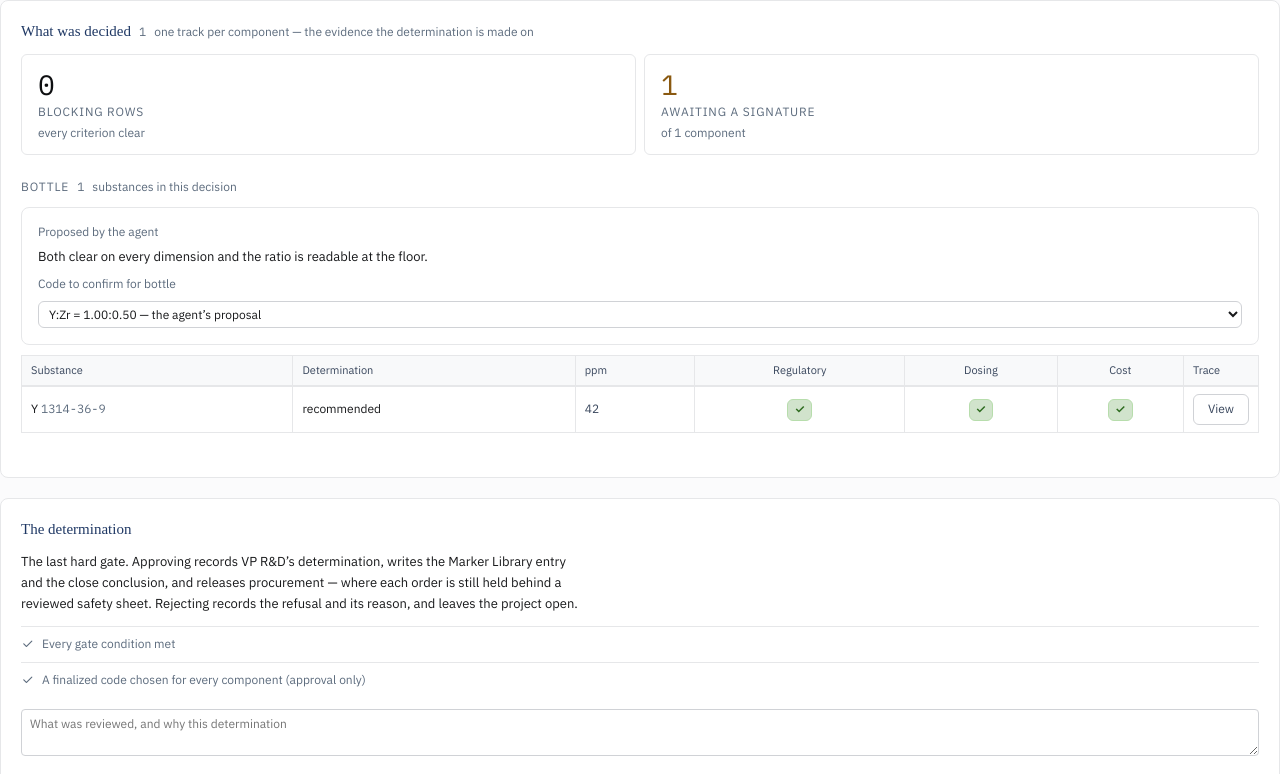
Decision — recording a ruling › does not let a failed post-refusal re-read blank the refusal
Check: the text "Proposed by the agent" is shown, box [38, 224, 159, 241]
In the text box named "determination note": (640, 732) [21, 709, 1259, 756], type "Signing off."
(page scrolled)
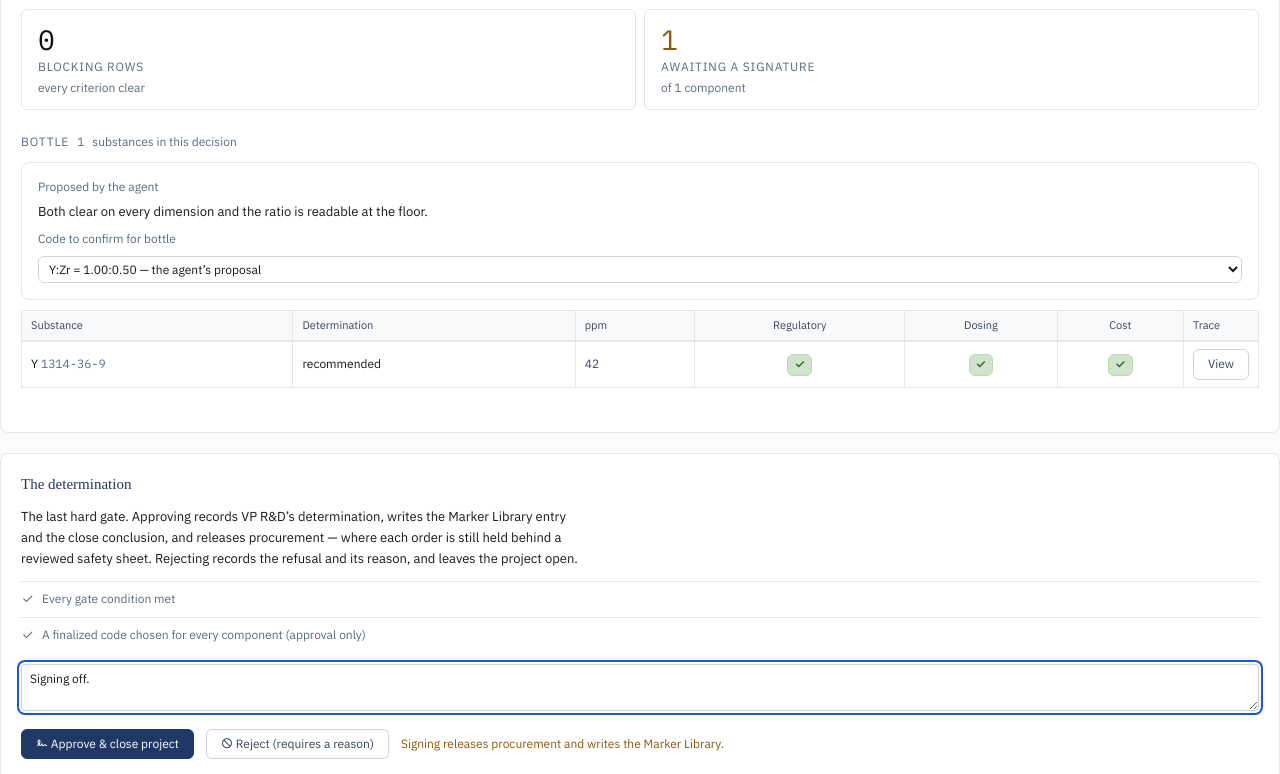
Click the button "Approve & close project": click(108, 744) [21, 728, 194, 759]
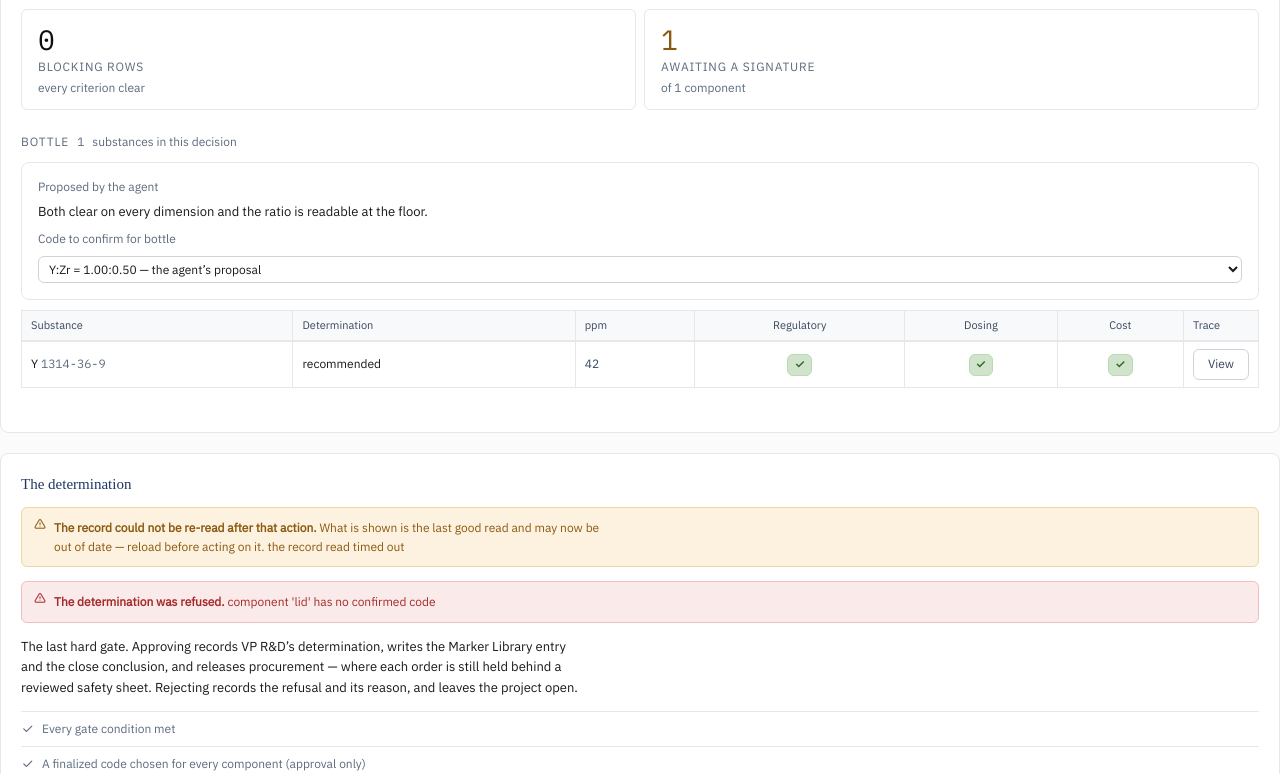
Check: the text "1314-36-9" is shown, box [41, 356, 106, 371]
Check: the text "component 'lid' has no confirmed code" is shown, box [227, 594, 435, 609]
Check: the text "The record could not be re-read after that action." is shown, box [54, 520, 317, 535]
